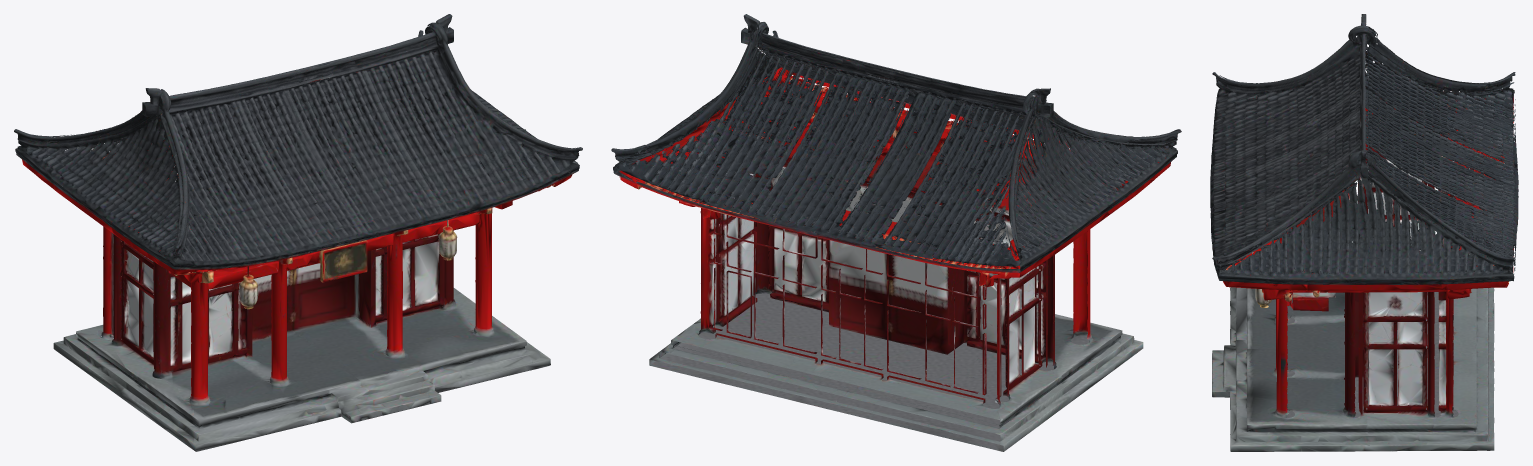
Rendered from temple_bay.glb.
The picture shows the model from 3 angles, left to right: view 1: azimuth 30°, elevation 25°; view 2: azimuth 150°, elevation 25°; view 3: azimuth 270°, elevation 25°; orthographic projection. The views are drawn at different scales.
Bounding box in the file's own units: 1.91 × 1.36 × 1.33.
1 material, 1 textured.
